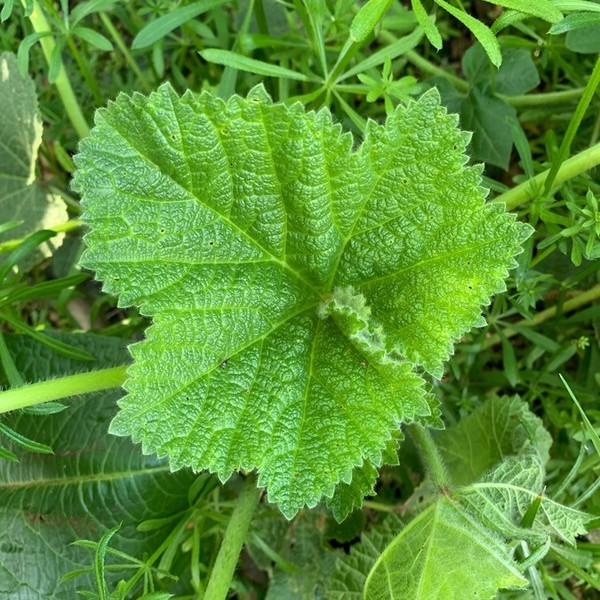obstacle: (62, 70, 486, 514)
